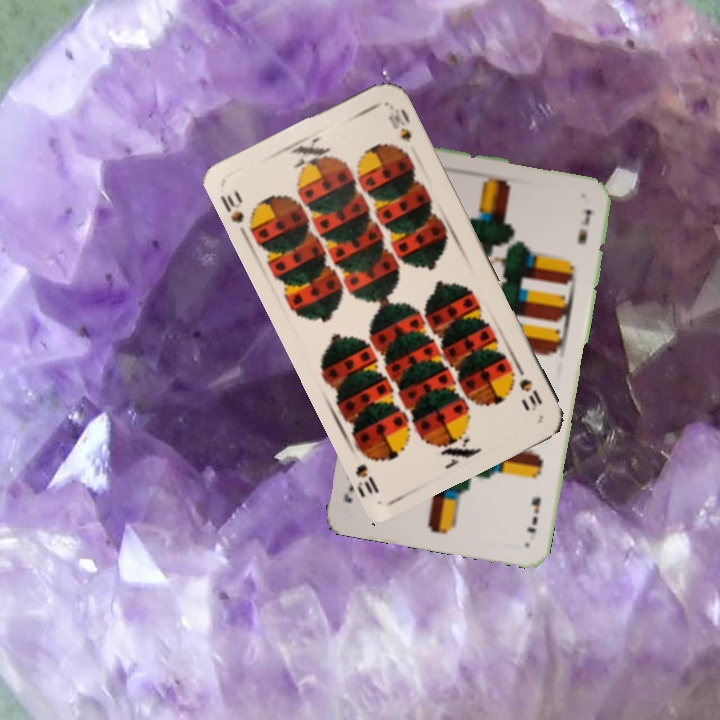E7: (522, 493, 544, 536)
S10: (512, 361, 545, 414), (216, 186, 247, 226)
